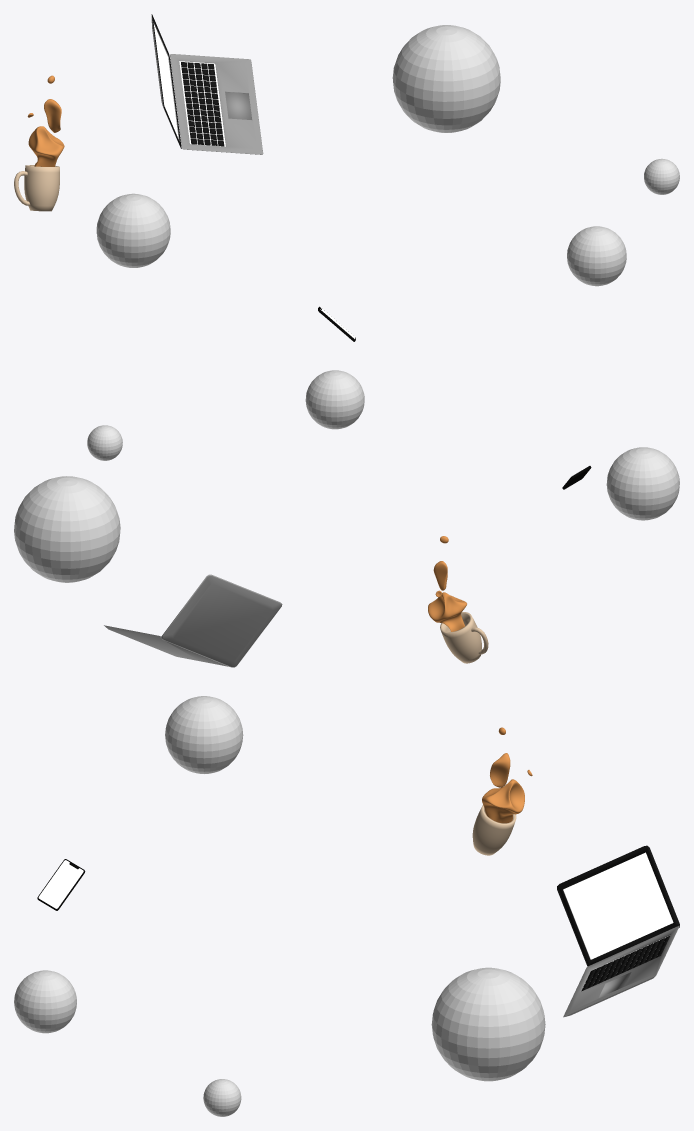
File: teo-ROBA.glb
3 renders of one model, top to bottom at view 1: azimuth 30°, elevation 25°; view 2: azimuth 150°, elevation 25°; view 3: azimuth 270°, elevation 25°, orthographic. The views are drawn at different scales.
Parts seen in each view (by area): view 1: Sphere.001, Cube.003, Sphere, Circle.001, Sphere.006, Sphere.005; view 2: Sphere.001, Cube.003, Sphere, Sphere.006, Circle.001, Sphere.005; view 3: Cube.003, Sphere.001, Sphere, Circle.001, Sphere.006, Iphone.001, Sphere.005.
Part boxes in pixels (x1,y1,x2,y2): Sphere.001: (392, 25, 500, 132); Cube.003: (151, 14, 263, 154); Sphere: (96, 193, 170, 267); Circle.001: (24, 75, 64, 211); Sphere.006: (567, 226, 626, 286); Sphere.005: (644, 158, 679, 194); Sphere.001: (14, 476, 120, 582); Cube.003: (104, 574, 282, 667); Sphere: (606, 447, 679, 520); Sphere.006: (305, 370, 364, 429); Circle.001: (428, 536, 481, 663); Sphere.005: (87, 425, 122, 460); Cube.003: (557, 845, 679, 1017); Sphere.001: (431, 967, 545, 1081); Sphere: (165, 696, 243, 773); Circle.001: (472, 727, 532, 855); Sphere.006: (14, 970, 76, 1033); Iphone.001: (37, 859, 85, 910); Sphere.005: (203, 1079, 241, 1116).
Bounding box in the file's own units: 11.77 × 3.05 × 11.05.
